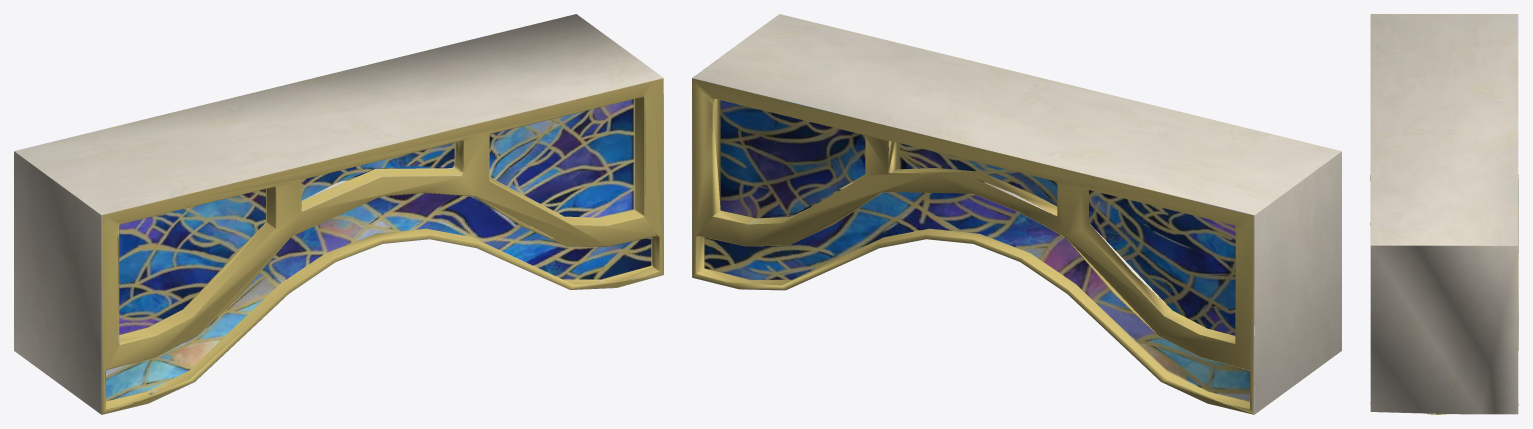
File: archwayTop_lowPoly.glb
3 renders of one model, left to right at view 1: azimuth 30°, elevation 25°; view 2: azimuth 150°, elevation 25°; view 3: azimuth 270°, elevation 25°, orthographic. The views are drawn at different scales.
Parts seen in each view (by area): view 1: archway_polySurface37.003; view 2: archway_polySurface37.003; view 3: archway_polySurface37.003.
Part boxes in pixels (x1,y1,x2,y2): archway_polySurface37.003: (14, 14, 663, 414); archway_polySurface37.003: (692, 14, 1341, 414); archway_polySurface37.003: (1370, 14, 1518, 414).
Bounding box in the file's own units: 1.7 × 0.6033 × 0.4575.
1 material, 1 textured.
